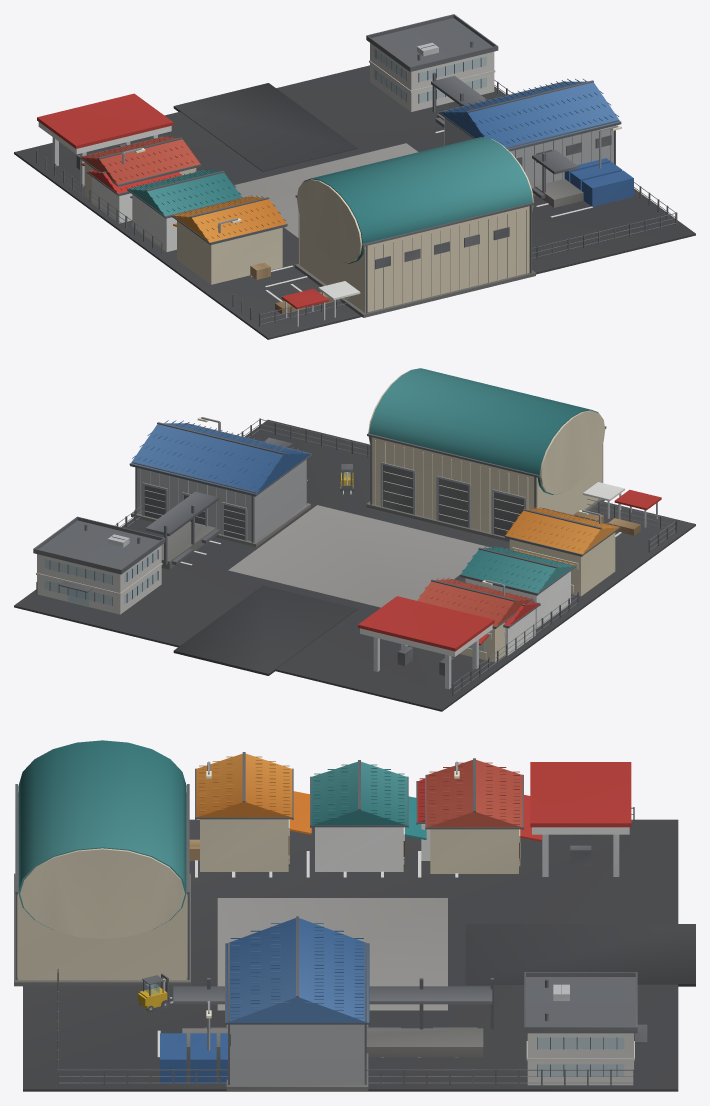
File: Market_P2.fbx
The picture shows the model from 3 angles, top to bottom: view 1: azimuth 30°, elevation 25°; view 2: azimuth 150°, elevation 25°; view 3: azimuth 270°, elevation 25°; orthographic projection. The views are drawn at different scales.
Visible parts, largest first — view 1: Market.Pad, Market.WH1, Market.WH2, Market.Office, Market.Shop2, Market.Fuel, Market.Shop1, Market.Shop0, Market.Dock, Market.Goods, Market.Fence, Market.FuelShop (+1 smaller); view 2: Market.Pad, Market.WH1, Market.WH2, Market.Office, Market.Fuel, Market.Shop2, Market.Shop1, Market.Shop0, Market.Dock, Market.Fence, Market.Stalls, Market.FuelShop; view 3: Market.Pad, Market.WH1, Market.WH2, Market.Office, Market.Shop2, Market.Shop0, Market.Shop1, Market.Fuel, Market.Dock, Market.Goods, Market.Fence, Market.Fork0 (+1 smaller).
Boxes of the visible parts, bbox=[...] form: Market.Pad: bbox=[14, 65, 695, 339]; Market.WH1: bbox=[295, 137, 535, 317]; Market.WH2: bbox=[439, 78, 621, 196]; Market.Office: bbox=[366, 14, 498, 111]; Market.Shop2: bbox=[171, 195, 287, 284]; Market.Fuel: bbox=[37, 93, 173, 186]; Market.Shop1: bbox=[127, 168, 242, 251]; Market.Shop0: bbox=[79, 135, 201, 199]; Market.Dock: bbox=[431, 72, 583, 207]; Market.Goods: bbox=[250, 158, 633, 279]; Market.Fence: bbox=[36, 80, 677, 326]; Market.FuelShop: bbox=[87, 169, 181, 223]; Market.Pad: bbox=[14, 419, 695, 711]; Market.WH1: bbox=[366, 368, 606, 541]; Market.WH2: bbox=[129, 420, 312, 547]; Market.Office: bbox=[33, 516, 165, 614]; Market.Fuel: bbox=[358, 596, 494, 689]; Market.Shop2: bbox=[504, 506, 620, 596]; Market.Shop1: bbox=[460, 545, 575, 628]; Market.Shop0: bbox=[417, 577, 534, 662]; Market.Dock: bbox=[145, 437, 292, 569]; Market.Fence: bbox=[36, 418, 677, 696]; Market.Stalls: bbox=[573, 482, 661, 535]; Market.FuelShop: bbox=[503, 601, 540, 655]; Market.Pad: bbox=[23, 819, 695, 1091]; Market.WH1: bbox=[14, 740, 190, 986]; Market.WH2: bbox=[225, 916, 369, 1090]; Market.Office: bbox=[524, 972, 647, 1085]; Market.Shop2: bbox=[195, 752, 311, 871]; Market.Shop0: bbox=[425, 758, 541, 873]; Market.Shop1: bbox=[310, 760, 426, 871]; Market.Fuel: bbox=[530, 762, 631, 876]; Market.Dock: bbox=[173, 978, 493, 1057]; Market.Goods: bbox=[160, 839, 227, 1083]; Market.Fence: bbox=[57, 807, 634, 1085]; Market.Fork0: bbox=[137, 973, 173, 1012].
Bounding box in the file's own units: 7267 × 1751 × 7700.
